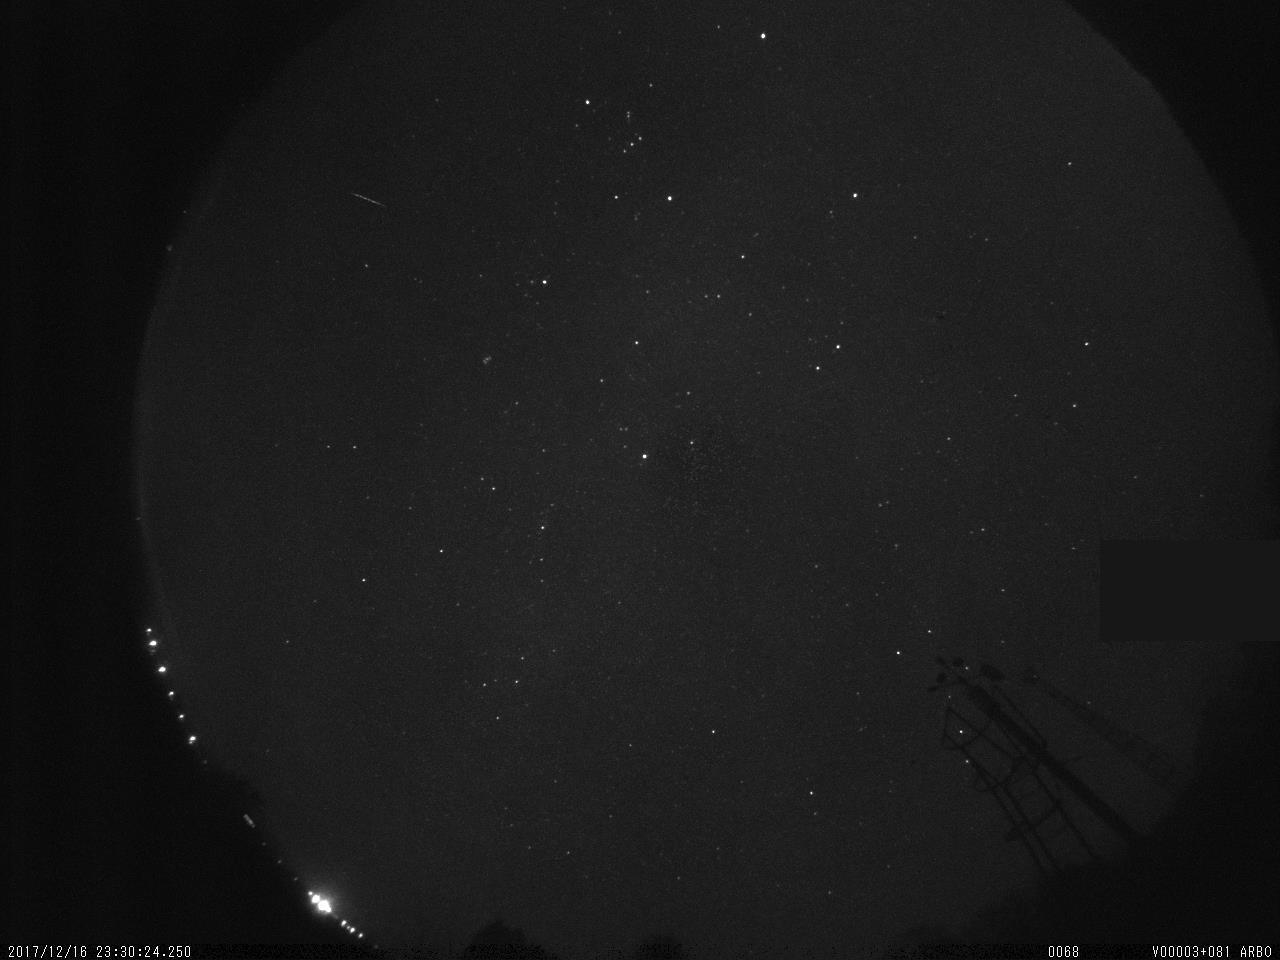meteor: (345, 183, 397, 220)
